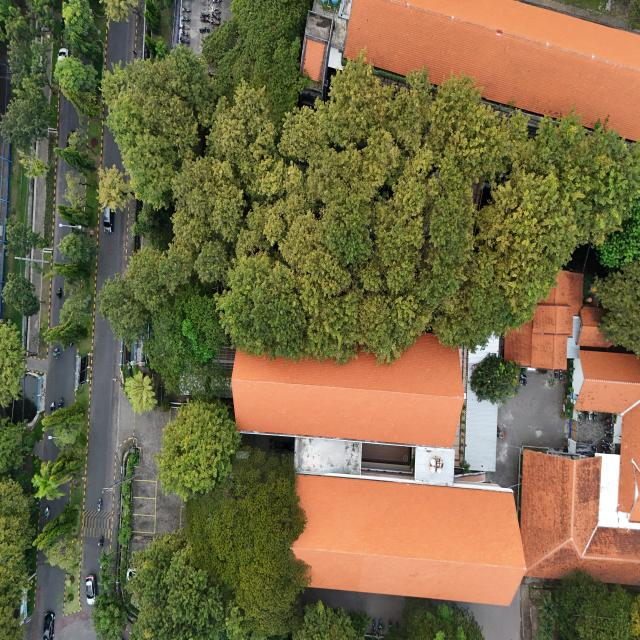Tree: (158, 403, 240, 496), (473, 351, 523, 406), (31, 506, 79, 546), (1, 273, 45, 316), (2, 217, 49, 256), (124, 368, 161, 415), (56, 58, 101, 94), (97, 160, 130, 209), (33, 457, 68, 502), (52, 144, 98, 176), (196, 237, 228, 281), (42, 314, 90, 343), (42, 402, 86, 428), (52, 260, 92, 281), (58, 202, 92, 226), (144, 9, 161, 32), (98, 547, 115, 569), (98, 567, 115, 588), (144, 32, 156, 52), (155, 35, 167, 55)
